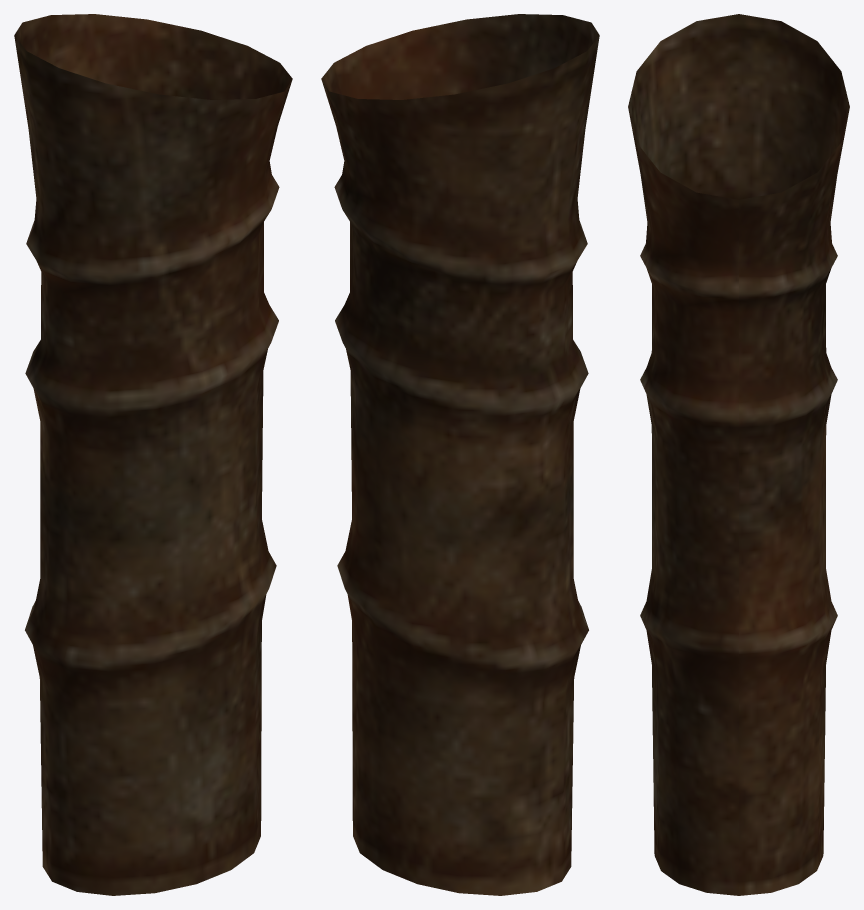
Rendered from wm_mordor_set1_sword_a02_handle.fbx.
3 renders of one model, left to right at view 1: azimuth 30°, elevation 25°; view 2: azimuth 150°, elevation 25°; view 3: azimuth 270°, elevation 25°, orthographic. The views are drawn at different scales.
Visible parts, largest first — view 1: wm_mordor_set1_sword_a02_handle; view 2: wm_mordor_set1_sword_a02_handle; view 3: wm_mordor_set1_sword_a02_handle.
Boxes of the visible parts, x1,y1,x2,y2 form: wm_mordor_set1_sword_a02_handle: (14, 14, 292, 895); wm_mordor_set1_sword_a02_handle: (321, 14, 599, 895); wm_mordor_set1_sword_a02_handle: (628, 14, 849, 895).
Size of the model in its own units: 0.0482 by 0.0388 by 0.1521.
Materials: 1 (1 with a texture image).
